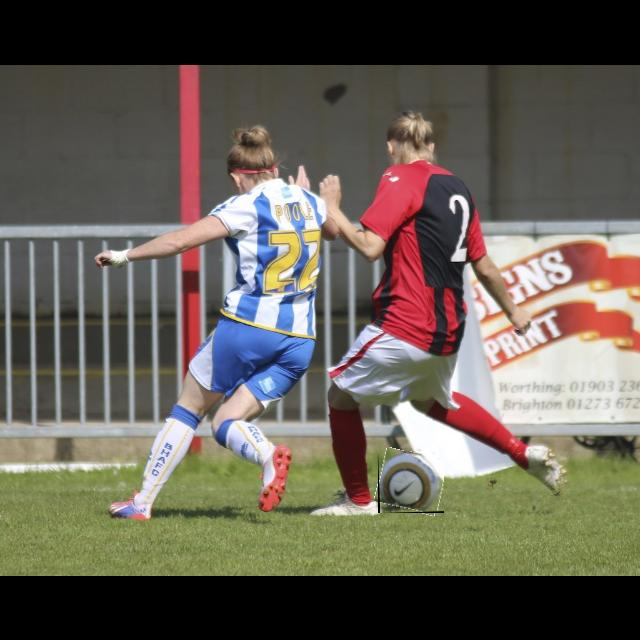Football: (378, 451, 444, 513)
